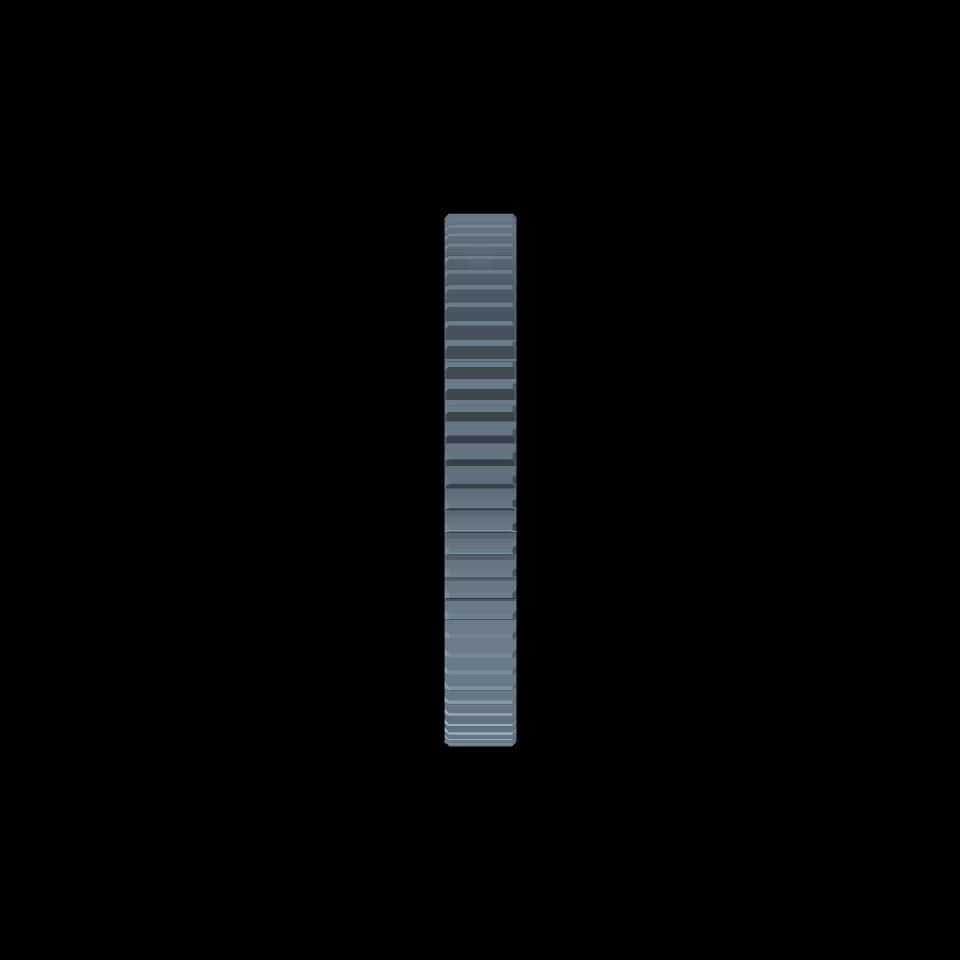Straight: (448, 212, 512, 744)
